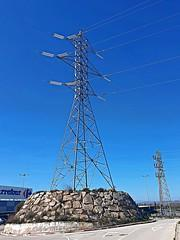power_tower: (46, 27, 121, 192), (149, 146, 176, 219)
